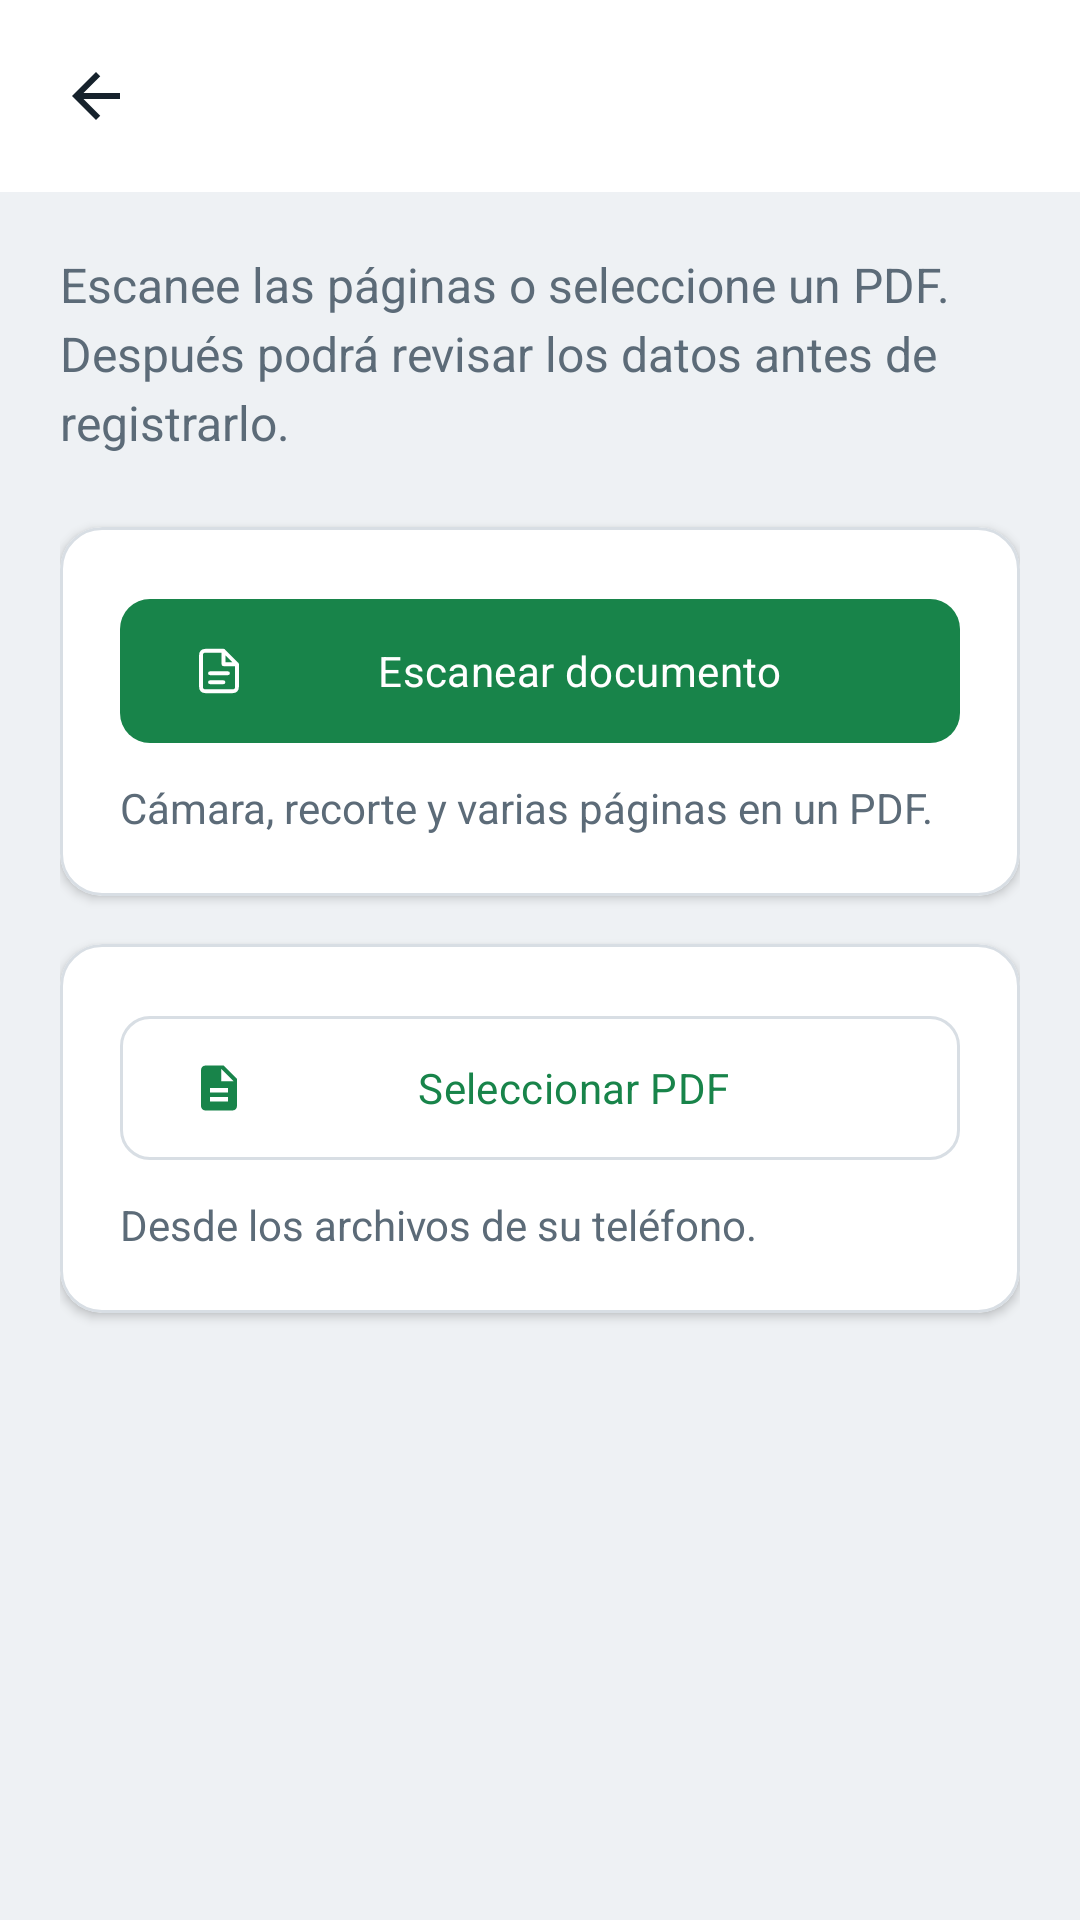

Named icons in this screenshot (1080px x 1920px) and their bounding boxes, (x1, y1, x2, y2):
Volver: (72, 72, 120, 120)
